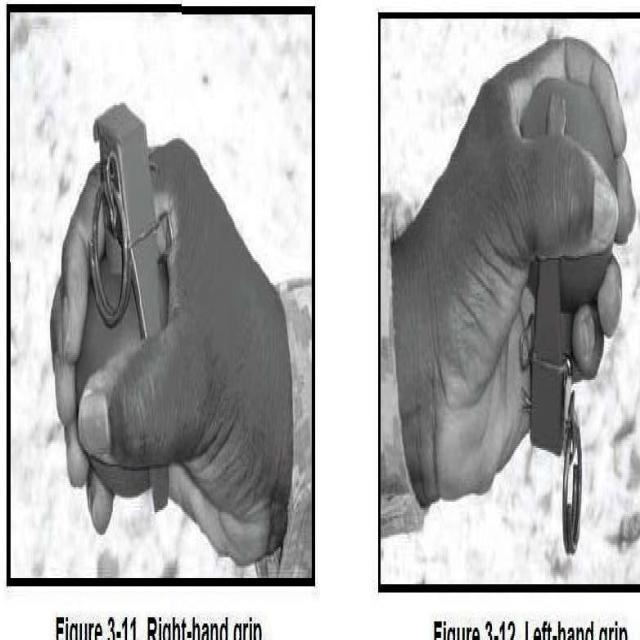grenade: (518, 78, 618, 554), (75, 102, 174, 515)
